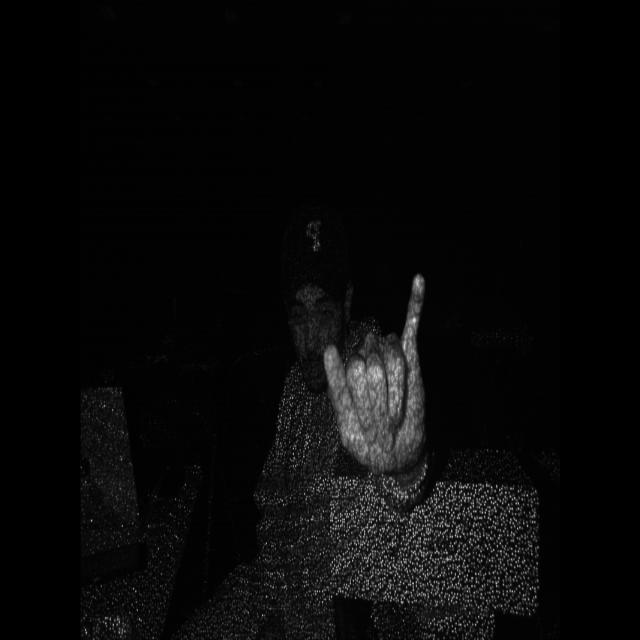I: (311, 249, 436, 496)
